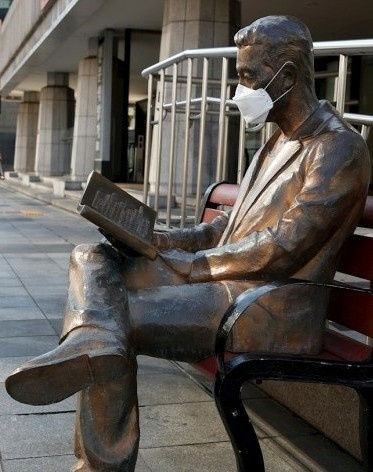with_mask: (229, 30, 317, 130)
